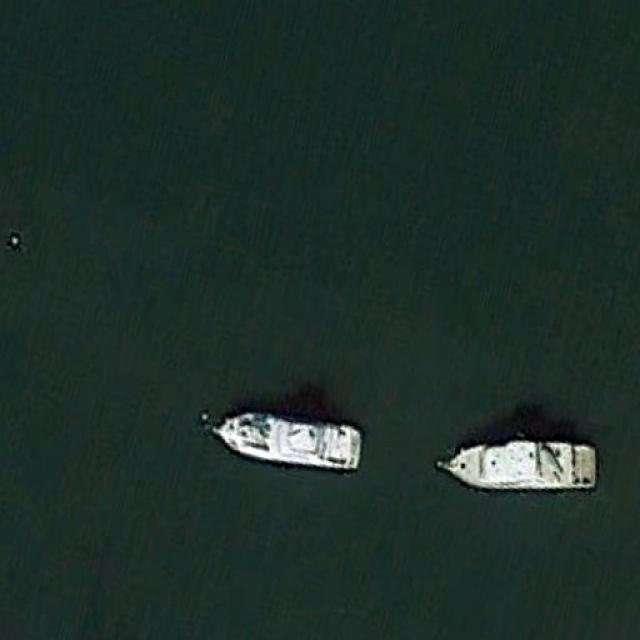boat: (202, 408, 364, 474), (432, 432, 598, 493)
